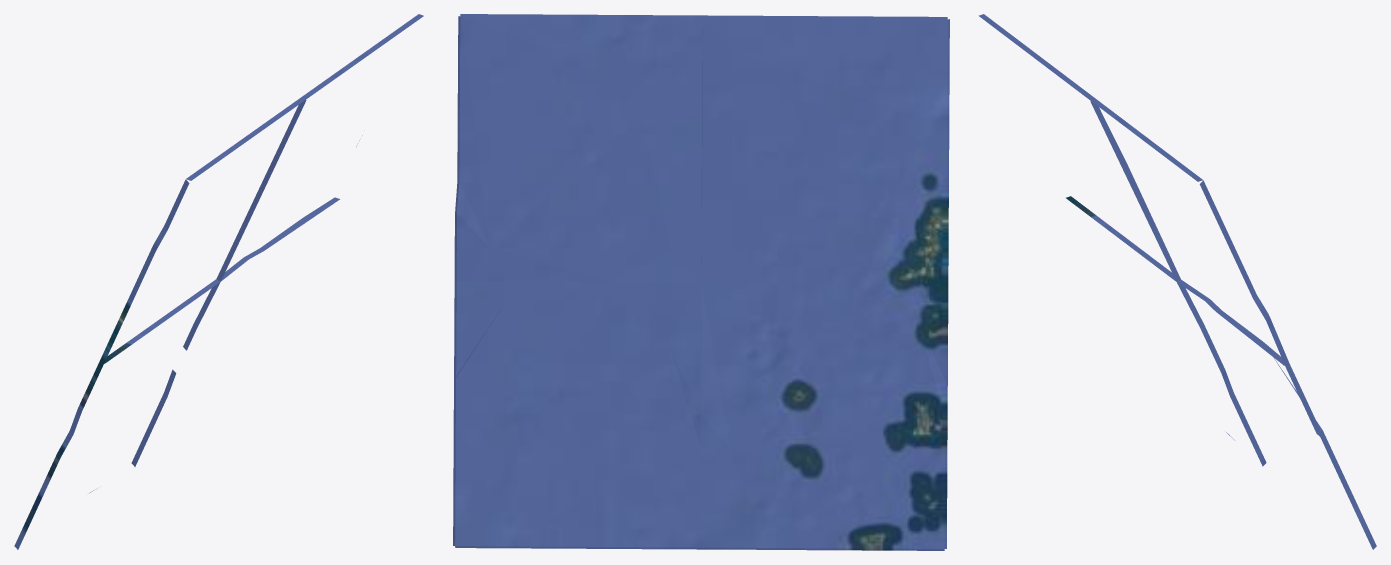
3 renders of one model, left to right at view 1: azimuth 30°, elevation 25°; view 2: azimuth 150°, elevation 25°; view 3: azimuth 270°, elevation 25°, orthographic. The views are drawn at different scales.
Bounding box in the file's own units: 78894 × 72363 × 63691.
1 material, 1 textured.
